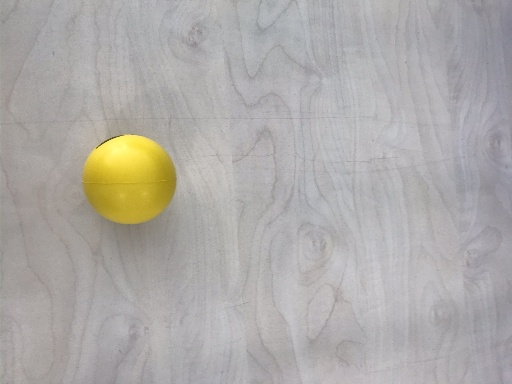Palla: (82, 134, 178, 226)
